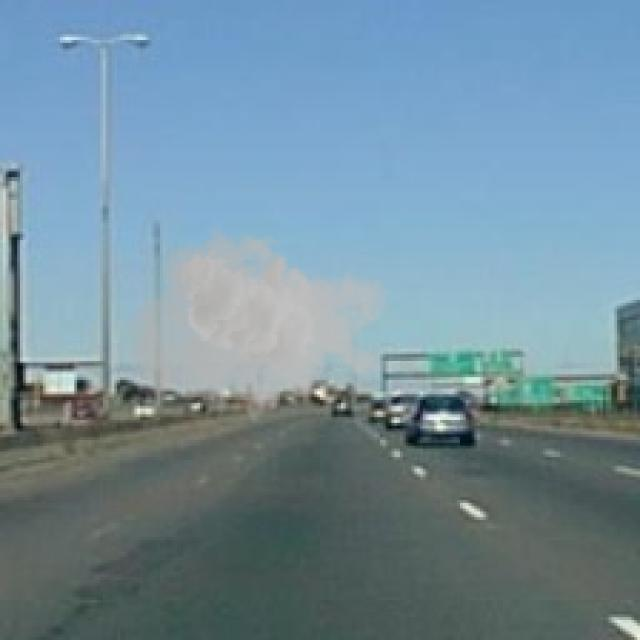smoke: (126, 226, 391, 434)
